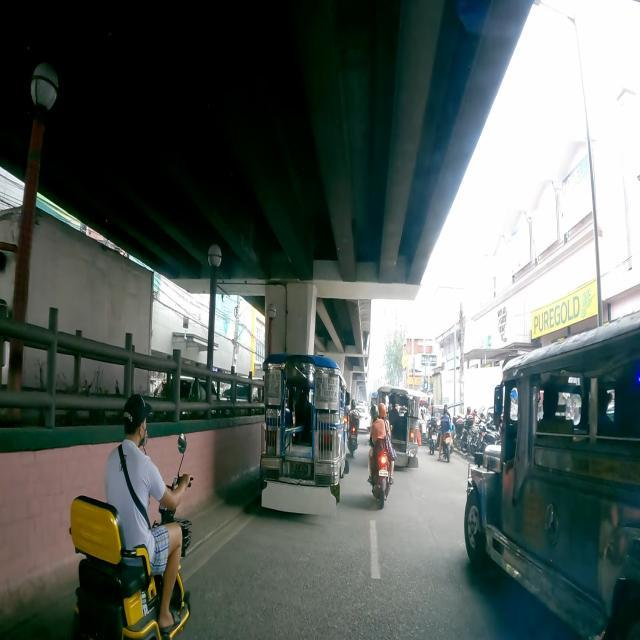car: (356, 402, 372, 434)
jeepney: (464, 311, 640, 640), (260, 353, 350, 514), (377, 386, 423, 468)
motorcycle: (368, 403, 396, 508), (476, 419, 501, 452), (438, 405, 452, 462), (348, 398, 360, 456), (454, 416, 467, 452), (469, 424, 482, 456), (428, 416, 438, 454)
truck: (0, 207, 154, 426)
